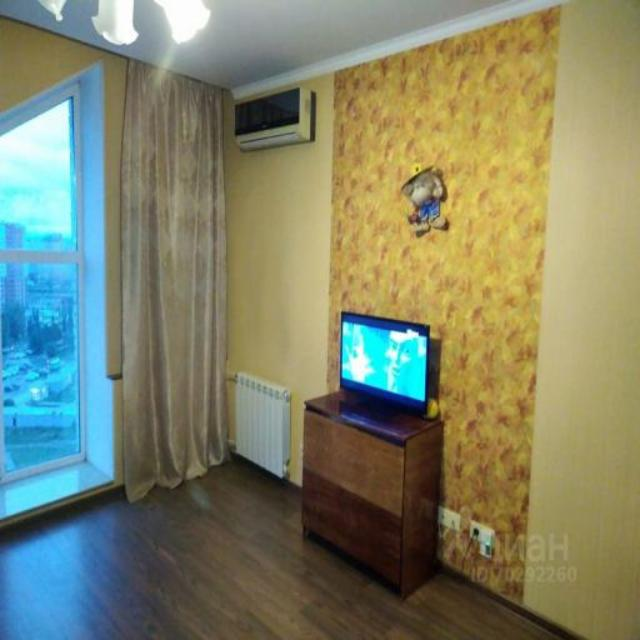Flat-Panel-TV: (340, 314, 430, 411)
